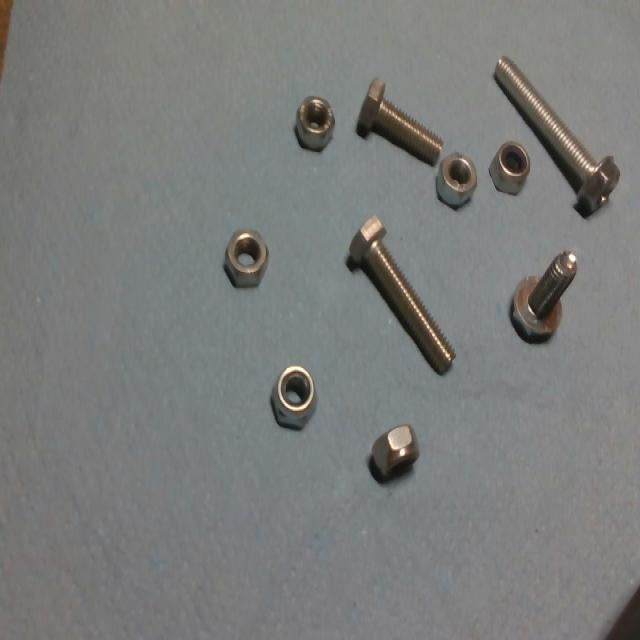Bolt: (489, 54, 623, 220), (347, 209, 463, 379), (503, 244, 586, 348), (358, 70, 446, 164)
Nut: (219, 223, 276, 296), (267, 357, 320, 433), (430, 146, 484, 217), (370, 420, 421, 494), (290, 89, 344, 152), (488, 136, 536, 188)
